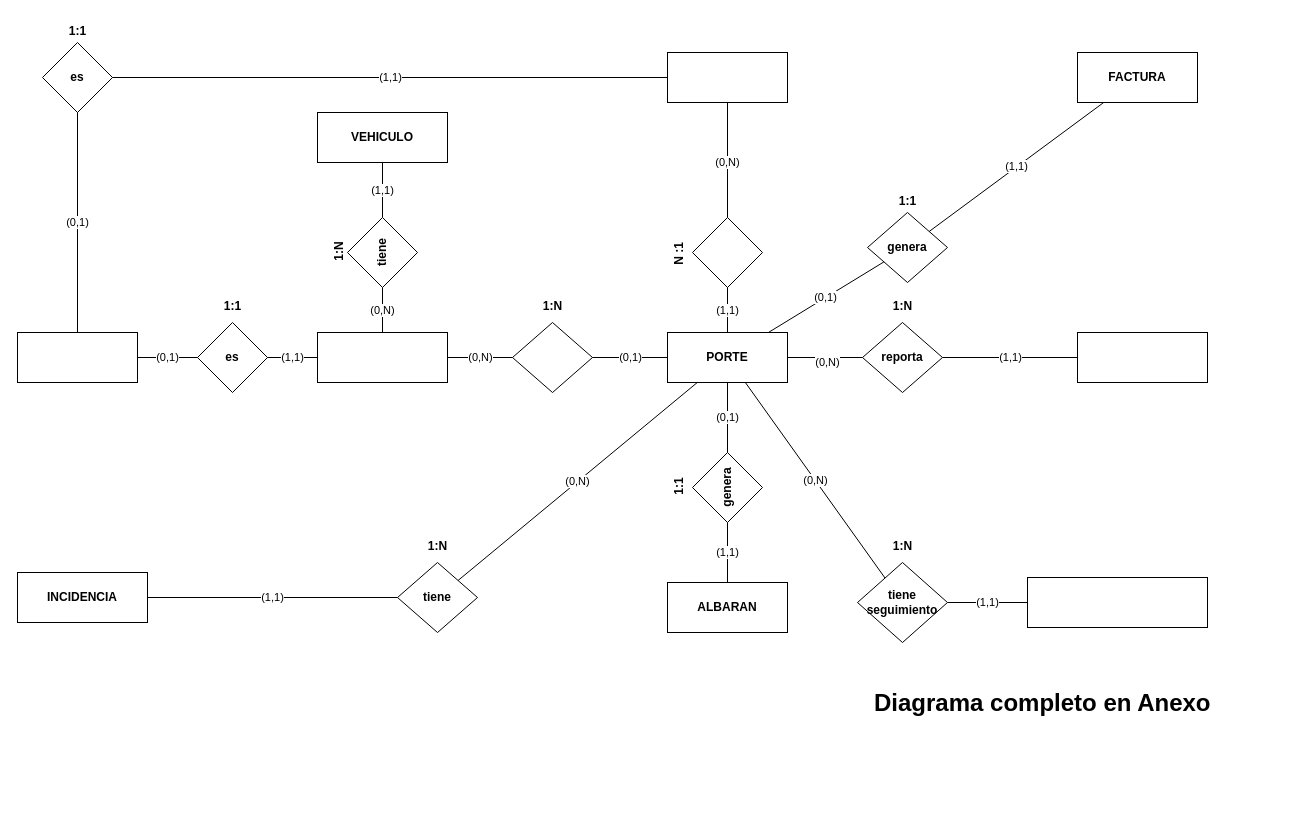
This 1310x822 diagram has some shape labels left out. Each missing label, with the centre of its shape:
CLIENTE: point 727,77
CONDUCTOR: point 382,357
realiza: point 552,357
solicita: point 727,252
TRACKING_SESSION: point 1117,602
UBICACION: point 1142,357
USUARIO: point 77,357
